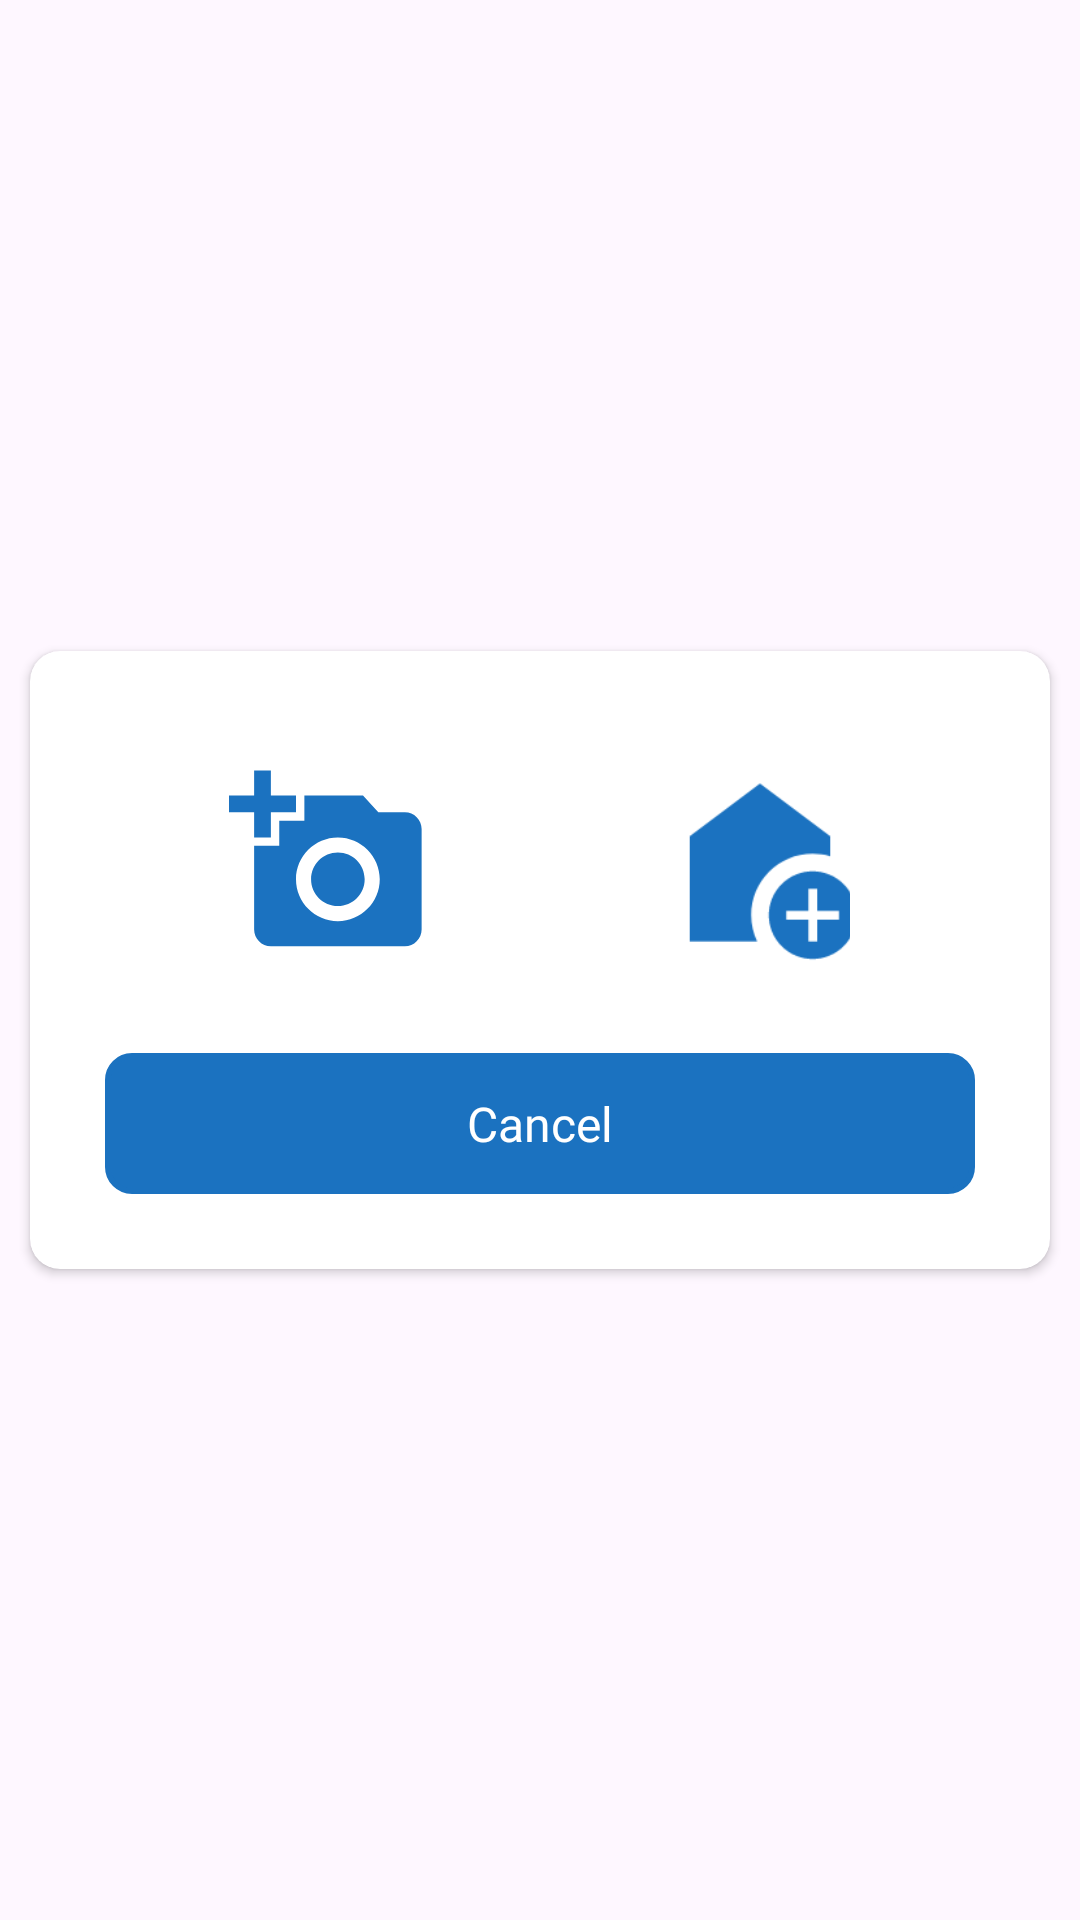

Screen size 1080px x 1920px. Icon name, then its center in pixels as (x=x, y=y):
add photo: (x=325, y=858)
